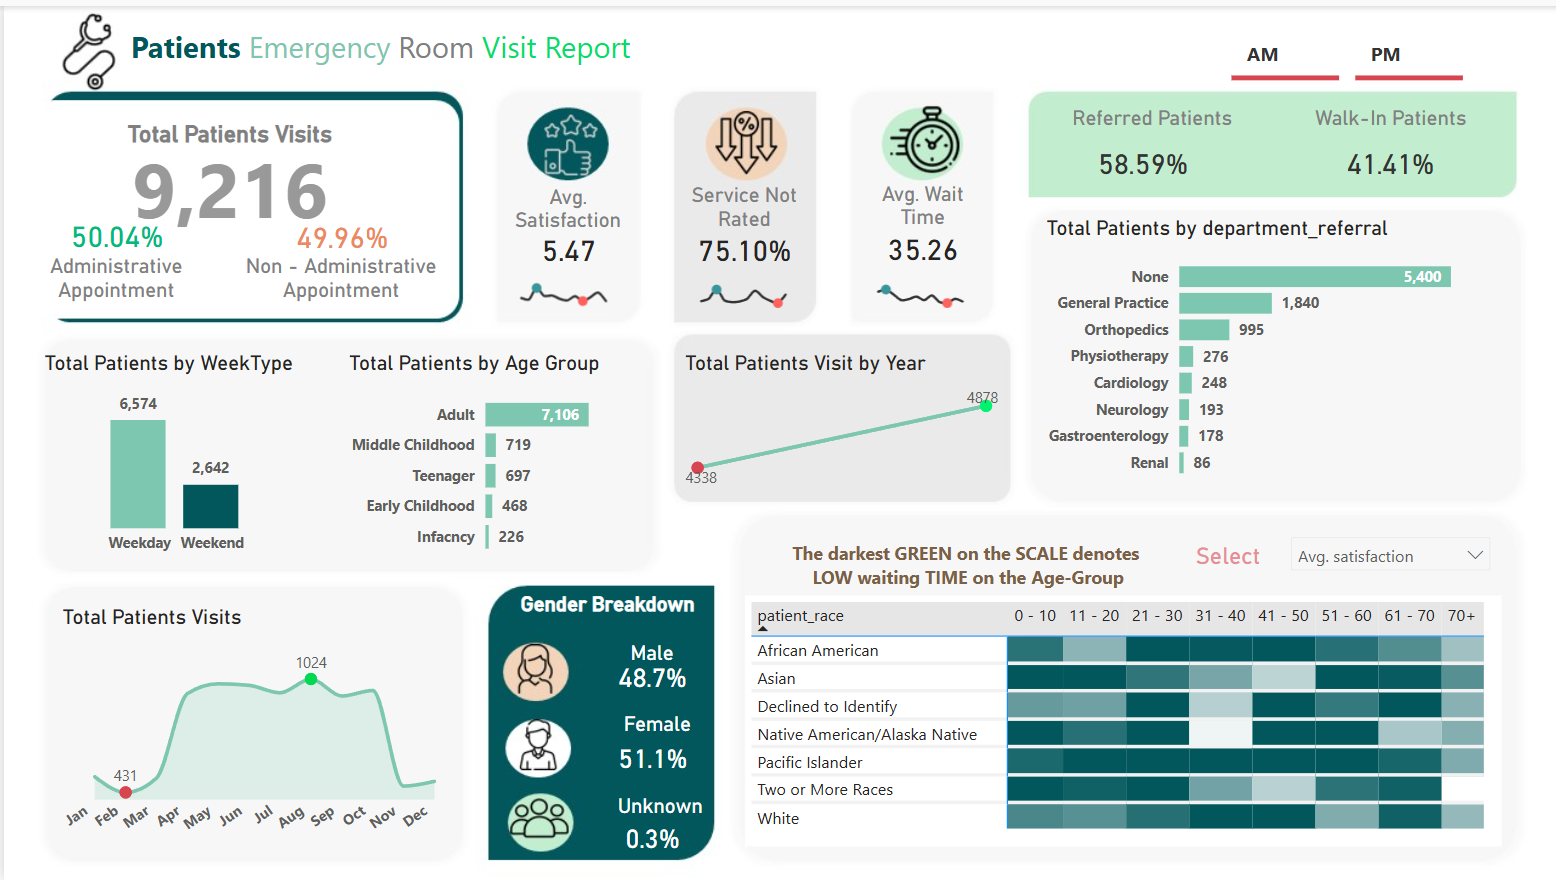

This screenshot's page, from the dashboard's own definition file:
{"tool":"powerbi","page":{"name":"Dashboard","canvas":[1280,720],"ordinal":0},"visuals":[{"type":"card","fields":{"Values":["Calculations.Total Patients"]},"box":[89.1,94.3,193.7,105.9],"z":0},{"type":"card","fields":{"Values":["Calculations.% Administrative Schedule"]},"box":[38.7,173,108.5,32.3],"z":1000},{"type":"card","fields":{"Values":["Calculations.% None - Administrative Schedule"]},"box":[226,173,104.6,33.6],"z":2000},{"type":"pivotTable","fields":{"Values":["Calculations.Average satisfaction Score"],"Rows":["Patient Dataset.patient_race"],"Columns":["Patient Dataset.Age Bucket"]},"box":[611,485.3,623.1,206.8],"z":3000},{"type":"slicer","fields":{"Values":["Parameter.Parameter"]},"box":[1050.4,427.6,184.1,45.7],"z":4000},{"type":"clusteredBarChart","fields":{"Category":["Patient Dataset.Age Group"],"Y":["Calculations.Total Patients"]},"box":[278.9,284.1,238.9,178.2],"z":5000},{"type":"areaChart","title":"Total Patients Visits","fields":{"Category":["Date.Month"],"Y":["Calculations.Total Patients","Calculations.Values Max Point (Month)"]},"box":[43.3,493.1,326.2,206.4],"z":6000},{"type":"advancedSlicerVisual","fields":{"Values":["Patient Dataset.Moment"]},"box":[1005.7,9.5,201.4,56.8],"z":7000},{"type":"lineChart","title":"Total Patients Visit by Year","fields":{"Category":["Date.Year"],"Y":["Calculations.Total Patients","Calculations.Values Max Point (Year)"]},"box":[555.6,283.9,267.6,114.9],"z":8000},{"type":"clusteredBarChart","fields":{"Y":["Calculations.Total Patients"],"Category":["Patient Dataset.department_referral"]},"box":[854.3,173,379.8,225.7],"z":9000},{"type":"card","fields":{"Values":["Calculations.% Referred Patients"]},"box":[1076,106.8,131.1,46],"z":10000},{"type":"card","fields":{"Values":["Calculations.% Un Referred Patients"]},"box":[870.5,106.8,135.2,46],"z":11000},{"type":"card","fields":{"Values":["Calculations.HitMap Caption"]},"box":[621.6,427.6,344.8,64.3],"z":12000},{"type":"textbox","box":[12.9,198.8,160.1,58.1],"z":13000},{"type":"textbox","box":[185.9,198.8,184.6,55.5],"z":14000},{"type":"card","title":"Avg. Satisfaction","fields":{"Values":["Calculations.Average satisfaction Score"]},"box":[408,147.2,113.6,68.4],"z":15000},{"type":"card","title":"Service Not Rated","fields":{"Values":["Calculations.% No Rating"]},"box":[552.6,145.9,114.9,69.7],"z":16000},{"type":"card","title":"Avg. Wait Time","fields":{"Values":["Calculations.Average Waiting Time"]},"box":[702.4,144.6,109.8,71],"z":17000},{"type":"textbox","box":[854.3,77,183.8,35.1],"z":18000},{"type":"textbox","box":[1050.3,77,183.8,35.1],"z":19000},{"type":"clusteredColumnChart","fields":{"Y":["Calculations.Total Patients"],"Category":["Date.WeekType"]},"box":[28.4,283.9,225.7,175.7],"z":20000},{"type":"card","fields":{"Values":["Calculations.% Female Visit"]},"box":[490.7,539.3,86.5,28.4],"z":21000},{"type":"card","fields":{"Values":["Calculations.% Male Visit"]},"box":[490.7,605.6,86.5,27],"z":22000},{"type":"card","fields":{"Values":["Calculations.% Unknown"]},"box":[490.7,670.5,86.5,28.4],"z":23000},{"type":"textbox","box":[68.4,89.1,236.3,40],"z":24000},{"type":"PBI_CV_25997FEB_F466_44FA_B562_AC4063283C4C","fields":{"measure":["Calculations.Average satisfaction Score"],"axis":["Date.Month"]},"box":[408,215.6,109.8,38.7],"z":25000},{"type":"PBI_CV_25997FEB_F466_44FA_B562_AC4063283C4C","fields":{"measure":["Calculations.% No Rating"],"axis":["Date.Month"]},"box":[555.6,216.3,109.5,39.2],"z":26000},{"type":"PBI_CV_25997FEB_F466_44FA_B562_AC4063283C4C","fields":{"measure":["Calculations.Average Waiting Time"],"axis":["Date.Month"]},"box":[701.5,216.3,109.5,39.2],"z":27000},{"type":"textbox","box":[966.3,436.2,84,34.6],"z":28000},{"type":"textbox","box":[43.3,10.8,533.9,55.4],"z":29000},{"type":"textbox","box":[407.8,477,179.2,40.8],"z":30000},{"type":"textbox","box":[490.6,517.8,86.5,40.8],"z":31000},{"type":"textbox","box":[499.2,575.8,77.9,40.8],"z":32000},{"type":"textbox","box":[490.7,643.4,100,40.6],"z":33000}]}

Visuals, with their boxes in screenshot pixels (x1, y1, x2, y2), scaled from the page's 1280x720 canvas onto the 1556x880 screenshot:
card - Calculations.Total Patients: (left=108, top=115, right=344, bottom=245)
card - Calculations.% Administrative Schedule: (left=47, top=211, right=179, bottom=251)
card - Calculations.% None - Administrative Schedule: (left=275, top=211, right=402, bottom=253)
pivotTable - Calculations.Average satisfaction Score x Patient Dataset.patient_race: (left=743, top=593, right=1500, bottom=846)
slicer - Parameter.Parameter: (left=1277, top=523, right=1501, bottom=578)
clusteredBarChart - Patient Dataset.Age Group x Calculations.Total Patients: (left=339, top=347, right=629, bottom=565)
"Total Patients Visits" areaChart: (left=53, top=603, right=449, bottom=855)
advancedSlicerVisual - Patient Dataset.Moment: (left=1223, top=12, right=1467, bottom=81)
"Total Patients Visit by Year" lineChart: (left=675, top=347, right=1001, bottom=487)
clusteredBarChart - Calculations.Total Patients x Patient Dataset.department_referral: (left=1039, top=211, right=1500, bottom=487)
card - Calculations.% Referred Patients: (left=1308, top=131, right=1467, bottom=187)
card - Calculations.% Un Referred Patients: (left=1058, top=131, right=1223, bottom=187)
card - Calculations.HitMap Caption: (left=756, top=523, right=1175, bottom=601)
textbox: (left=16, top=243, right=210, bottom=314)
textbox: (left=226, top=243, right=450, bottom=311)
"Avg. Satisfaction" card: (left=496, top=180, right=634, bottom=264)
"Service Not Rated" card: (left=672, top=178, right=811, bottom=264)
"Avg. Wait Time" card: (left=854, top=177, right=987, bottom=264)
textbox: (left=1039, top=94, right=1262, bottom=137)
textbox: (left=1277, top=94, right=1500, bottom=137)
clusteredColumnChart - Calculations.Total Patients x Date.WeekType: (left=35, top=347, right=309, bottom=562)
card - Calculations.% Female Visit: (left=597, top=659, right=702, bottom=694)
card - Calculations.% Male Visit: (left=597, top=740, right=702, bottom=773)
card - Calculations.% Unknown: (left=597, top=820, right=702, bottom=854)
textbox: (left=83, top=109, right=370, bottom=158)
PBI_CV_25997FEB_F466_44FA_B562_AC4063283C4C - Calculations.Average satisfaction Score x Date.Month: (left=496, top=264, right=629, bottom=311)
PBI_CV_25997FEB_F466_44FA_B562_AC4063283C4C - Calculations.% No Rating x Date.Month: (left=675, top=264, right=809, bottom=312)
PBI_CV_25997FEB_F466_44FA_B562_AC4063283C4C - Calculations.Average Waiting Time x Date.Month: (left=853, top=264, right=986, bottom=312)
textbox: (left=1175, top=533, right=1277, bottom=575)
textbox: (left=53, top=13, right=702, bottom=81)
textbox: (left=496, top=583, right=714, bottom=633)
textbox: (left=596, top=633, right=702, bottom=683)
textbox: (left=607, top=704, right=702, bottom=754)
textbox: (left=597, top=786, right=718, bottom=836)
